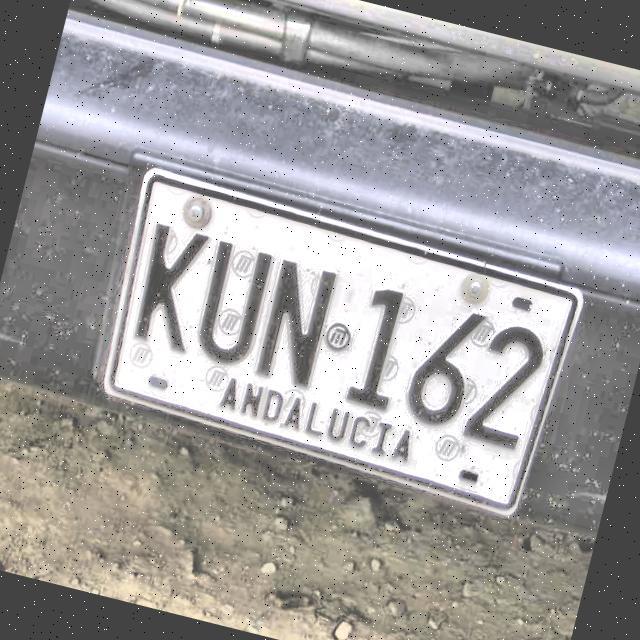1: (333, 274, 423, 419)
2: (459, 313, 552, 456)
6: (397, 291, 490, 435)
K: (126, 218, 217, 356)
N: (248, 253, 344, 394)
U: (186, 238, 280, 373)
